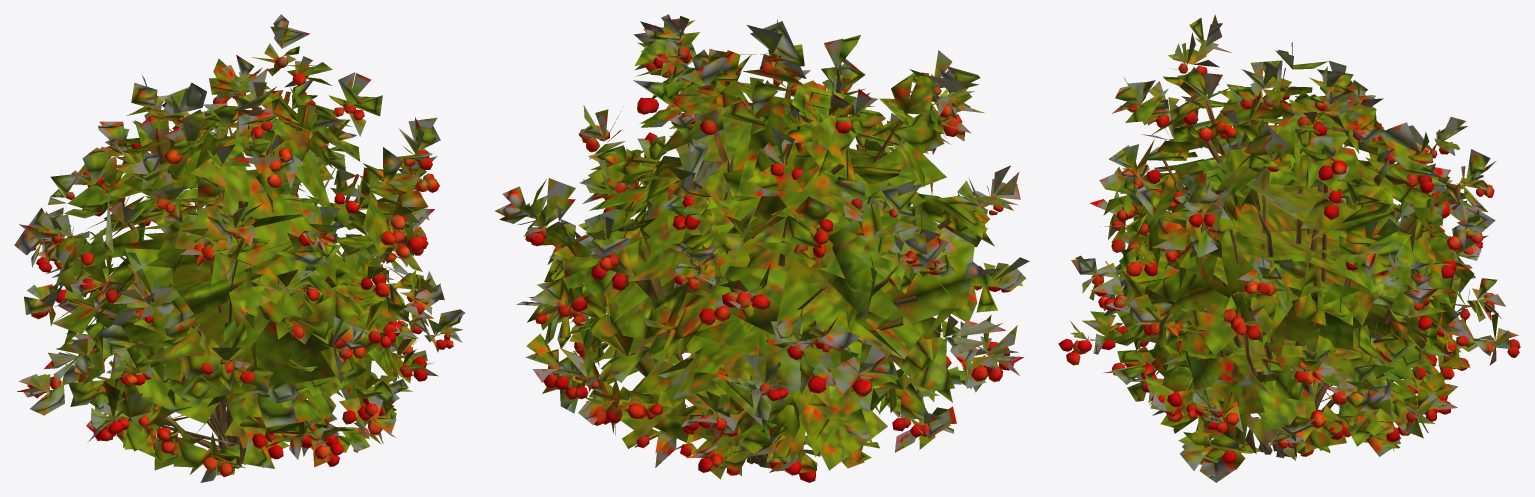
File: meadow_3.glb
3 views of the same model, side by side, from view 1: azimuth 30°, elevation 25°; view 2: azimuth 150°, elevation 25°; view 3: azimuth 270°, elevation 25° (orthographic). The views are drawn at different scales.
Parts seen in each view (by area): view 1: geometry_0; view 2: geometry_0; view 3: geometry_0.
Boxes of the visible parts, bbox=[...] form: geometry_0: bbox=[14, 14, 465, 482]; geometry_0: bbox=[494, 14, 1029, 482]; geometry_0: bbox=[1058, 14, 1520, 482].
Size of the model in its own units: 0.9419 by 0.9253 by 0.9404.
Materials: 1 (1 with a texture image).
